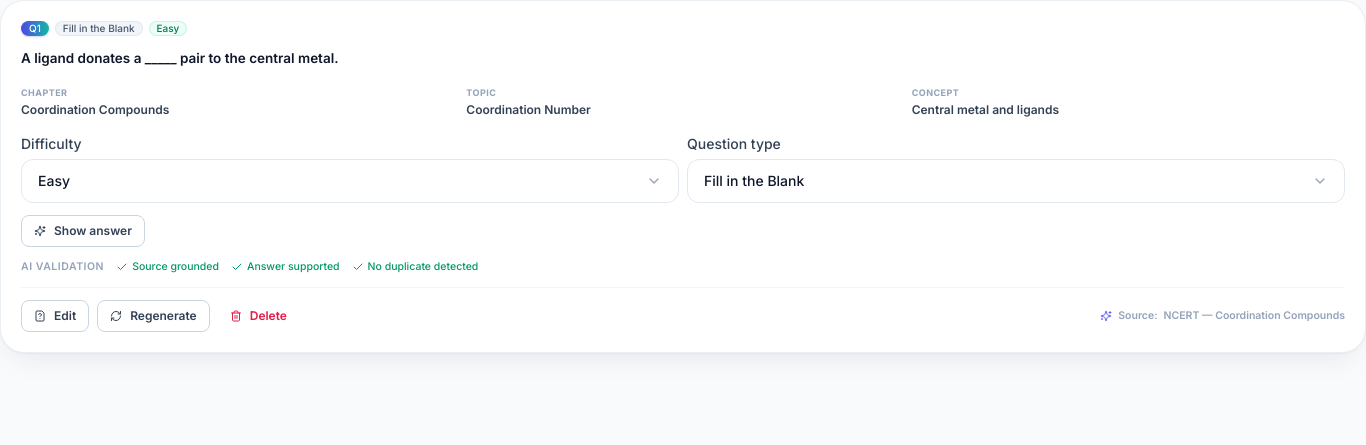
Test: micro-assessment question card presentation › does not fabricate an explanation when none exists
This screenshot has width=1366, height=445.
Click the button "Show answer" at (83, 231), box [21,215,145,247]
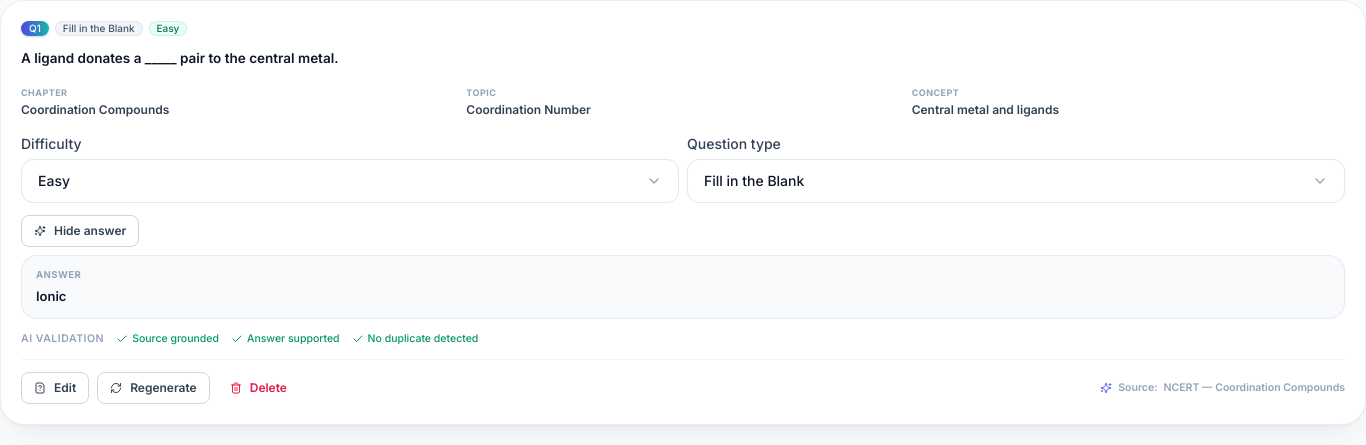
Check: the text "Ionic" is shown, box [36,288,66,304]
